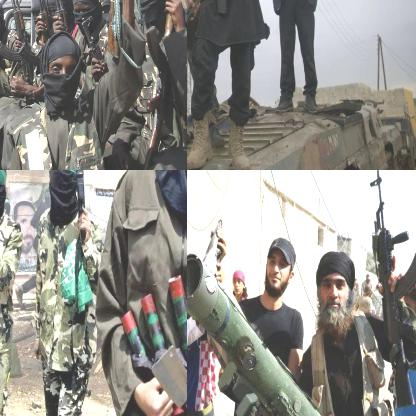rifle: (368, 170, 415, 407), (187, 0, 260, 50), (68, 170, 89, 240), (5, 0, 30, 44), (45, 0, 68, 32), (27, 0, 48, 33)
